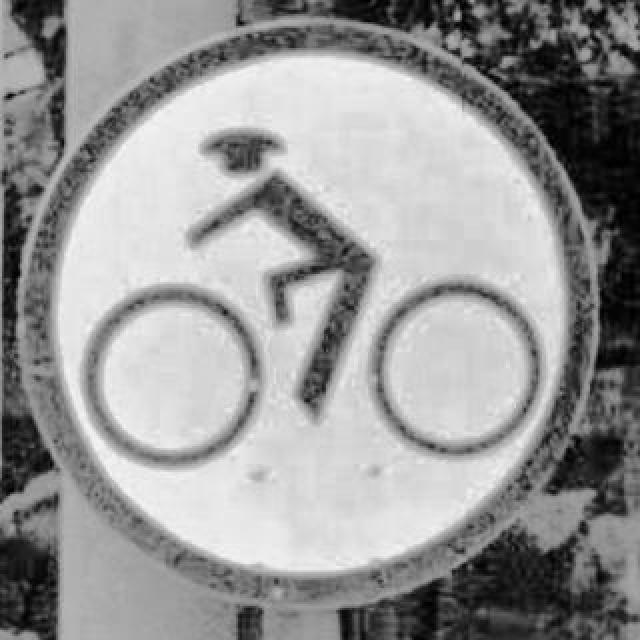bike lane: (20, 20, 600, 602)
